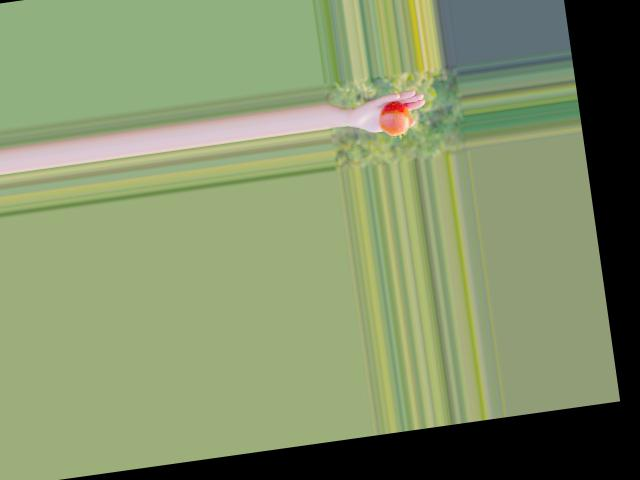tomato: (377, 99, 412, 136)
